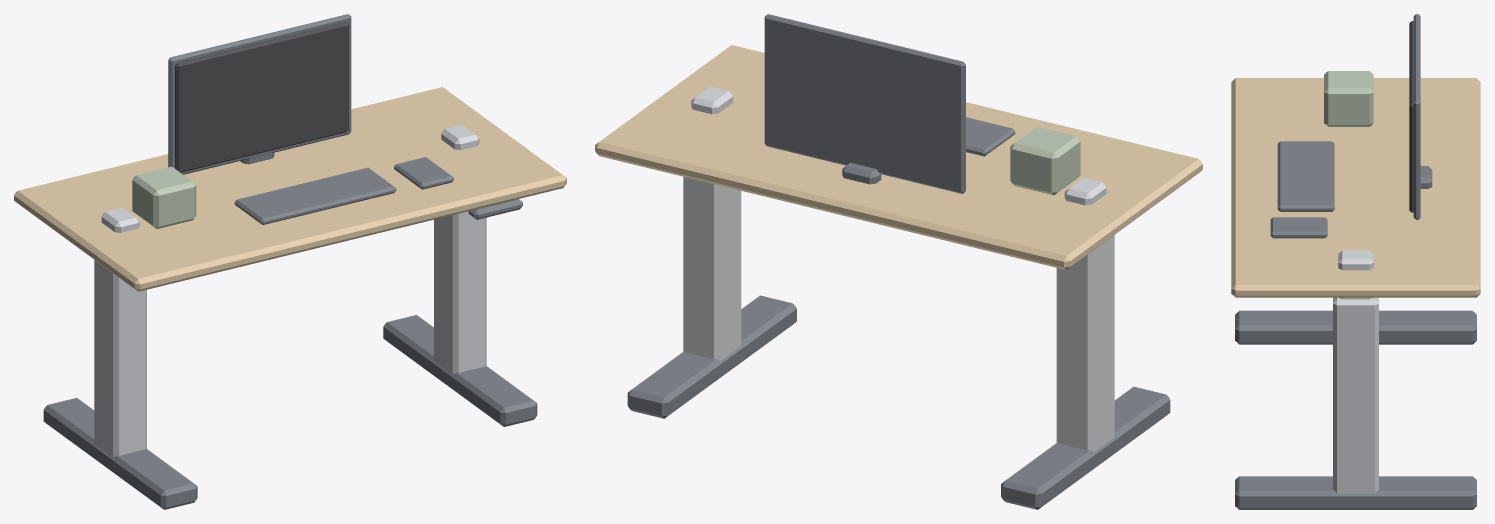
The model's file is SitStandDesk.glb.
The picture shows the model from 3 angles, left to right: view 1: azimuth 30°, elevation 25°; view 2: azimuth 150°, elevation 25°; view 3: azimuth 270°, elevation 25°; orthographic projection. The views are drawn at different scales.
Parts seen in each view (by area): view 1: SitStandDesk_Top, SitStandDesk_Base; view 2: SitStandDesk_Top, SitStandDesk_Base; view 3: SitStandDesk_Top, SitStandDesk_Base.
Boxes of the visible parts, x1,y1,x2,y2 form: SitStandDesk_Top: (14, 14, 566, 291); SitStandDesk_Base: (43, 211, 537, 509); SitStandDesk_Top: (595, 14, 1202, 269); SitStandDesk_Base: (627, 176, 1170, 509); SitStandDesk_Top: (1231, 14, 1480, 299); SitStandDesk_Base: (1235, 297, 1476, 509).
Size of the model in its own units: 1.4 by 1.12 by 0.7.
